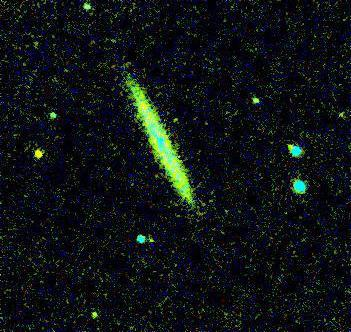star: (25, 138, 55, 168)
